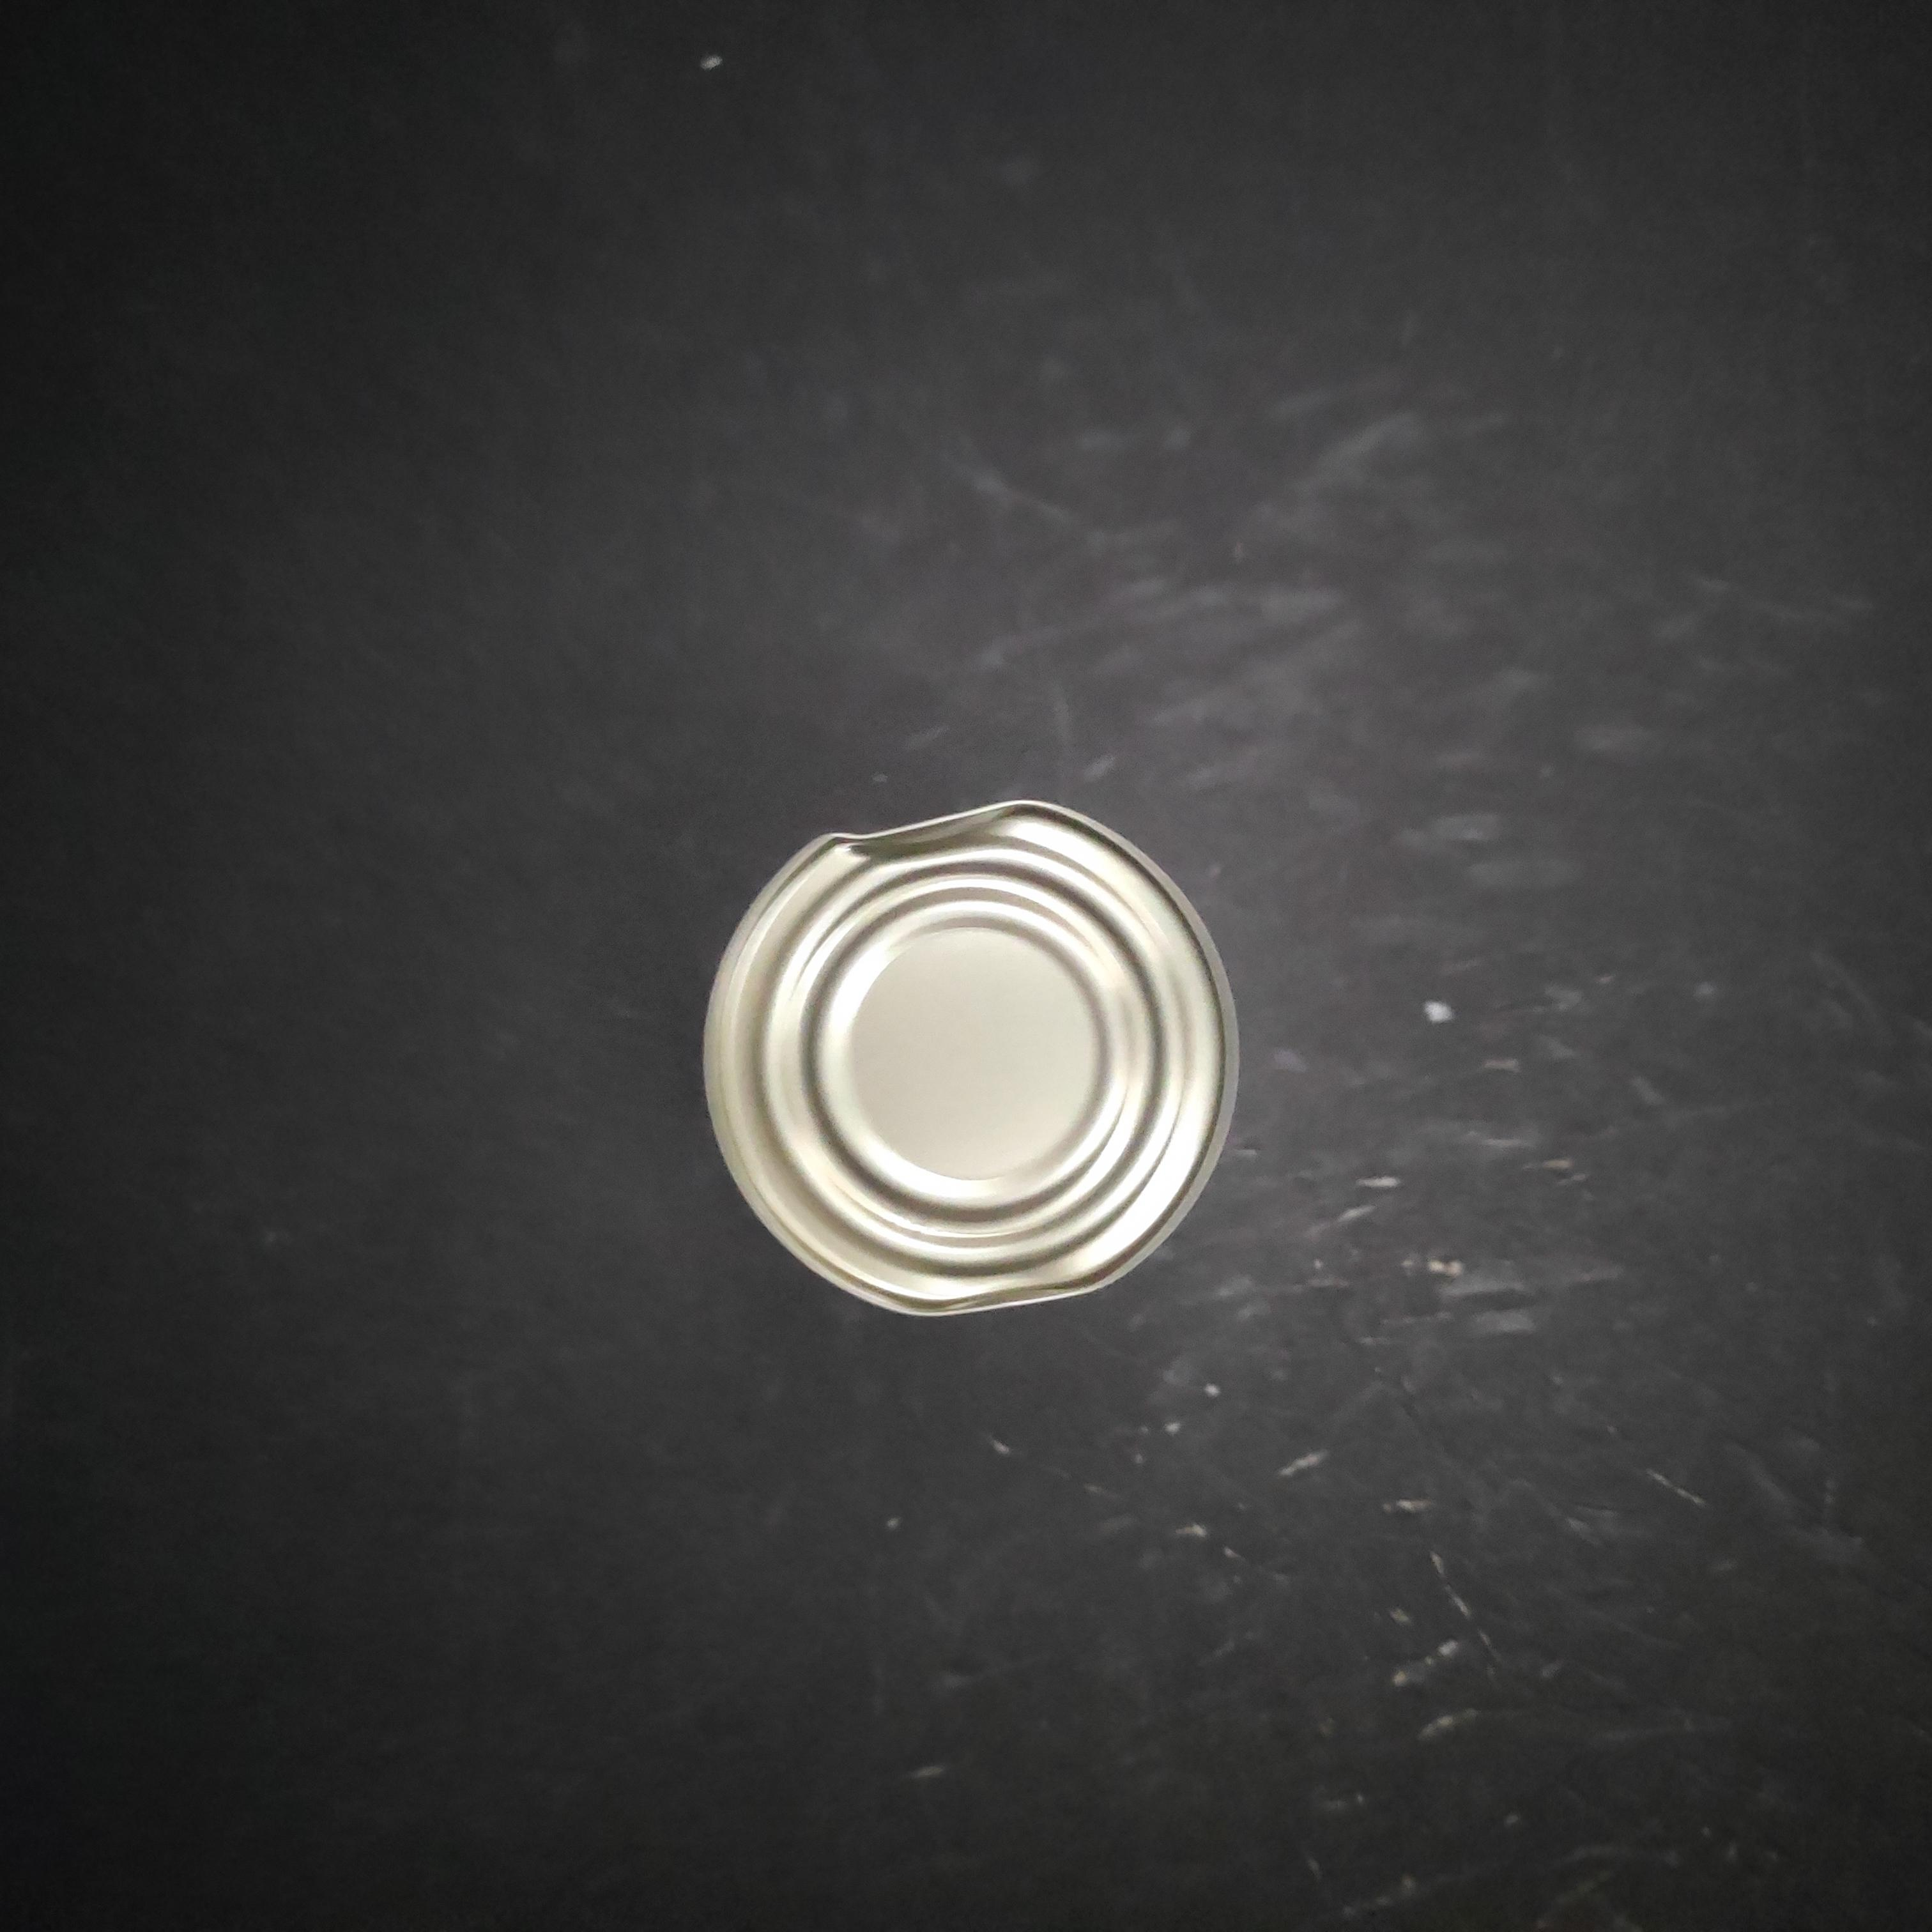Minor Defect: (681, 602, 1242, 1146)
